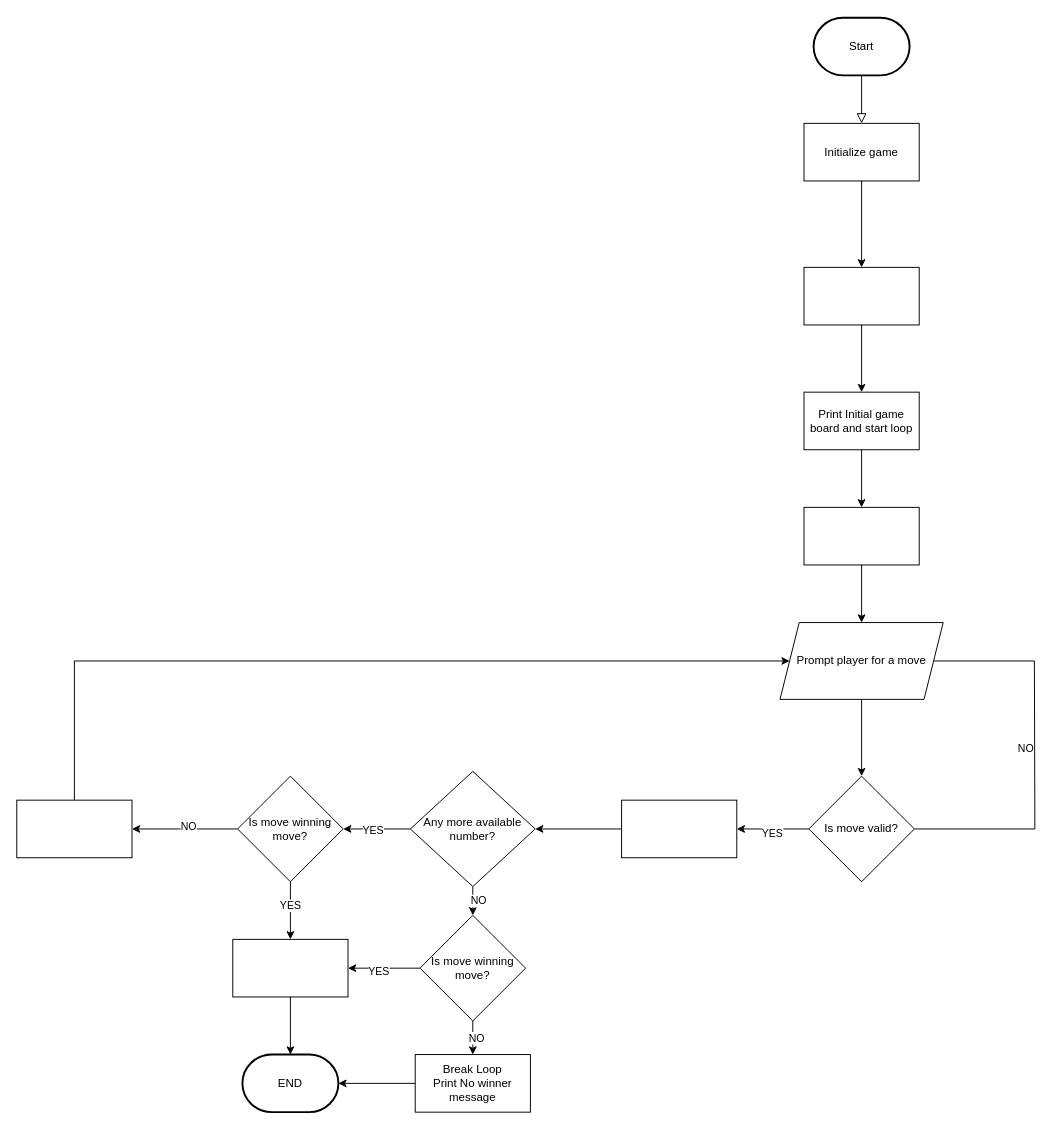
Image size: 1053x1129. Some labels were removed from this diagram. The box of each missing label's shape, as (x1, y1, x2, y2) in pixels:
Break Loop Print Winners name: (232, 938, 348, 997)
Determine current player and symbol (X or O) using: (803, 506, 919, 565)
Get Player names: (803, 266, 919, 325)
Remove number from available numbers: (621, 799, 737, 858)
Update and Print Board: (16, 799, 132, 858)
